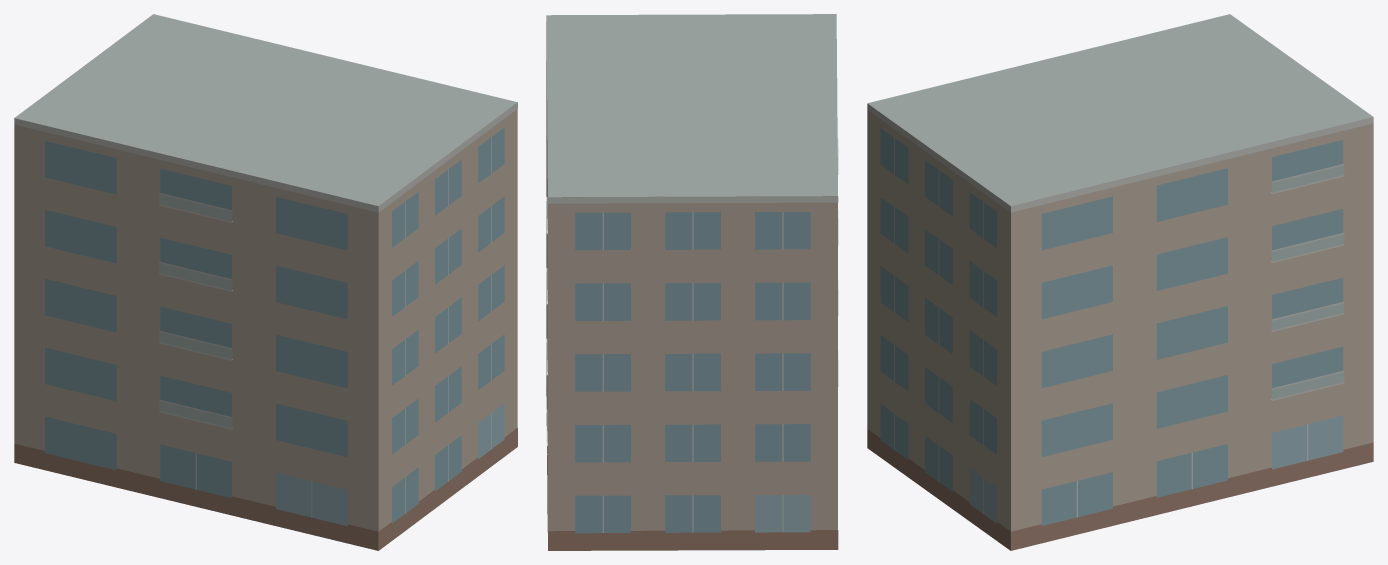
The model's file is survey-upis-32947023.glb.
3 views of the same model, side by side, from view 1: azimuth 30°, elevation 25°; view 2: azimuth 150°, elevation 25°; view 3: azimuth 270°, elevation 25° (orthographic). The views are drawn at different scales.
Visible parts, largest first — view 1: survey-upis-32947023.tmp; view 2: survey-upis-32947023.tmp; view 3: survey-upis-32947023.tmp.
Part boxes in pixels (x1=…): survey-upis-32947023.tmp: x1=14, y1=14, x2=517, y2=550; survey-upis-32947023.tmp: x1=546, y1=14, x2=838, y2=550; survey-upis-32947023.tmp: x1=867, y1=14, x2=1373, y2=550.
Bounding box in the file's own units: 15.79 × 13.2 × 17.59.
